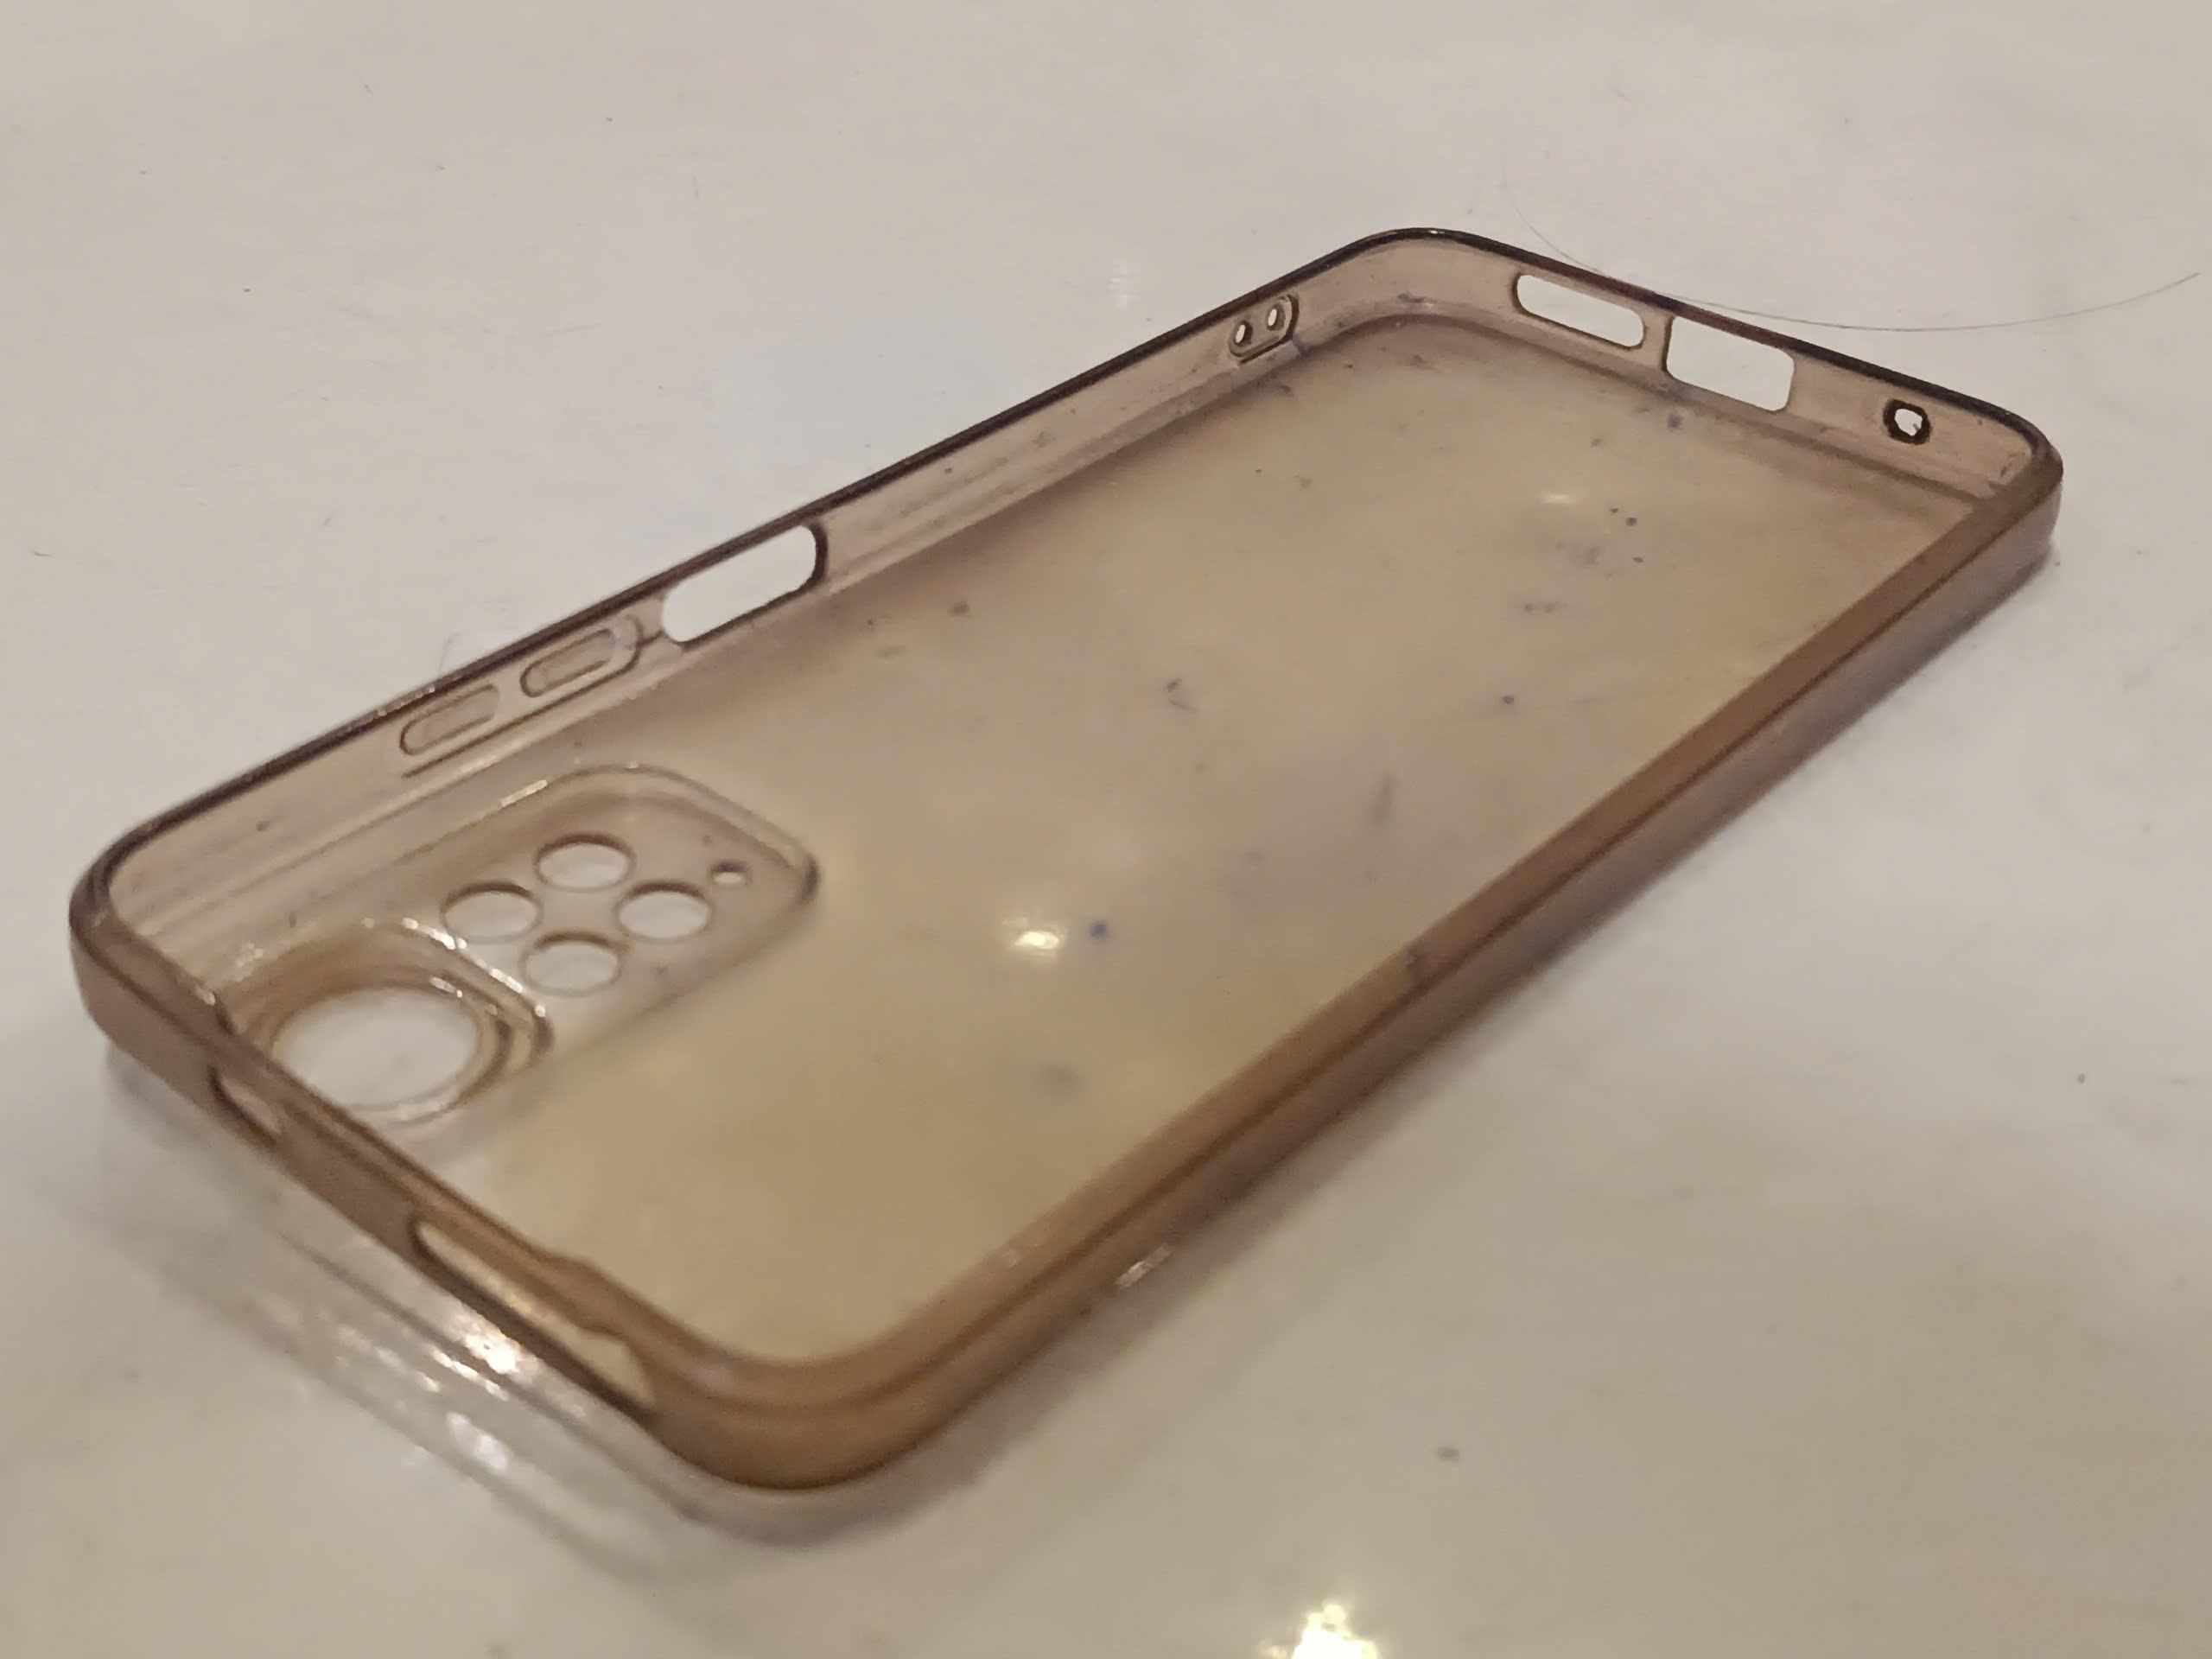Vo co: (70, 225, 2083, 1493)
